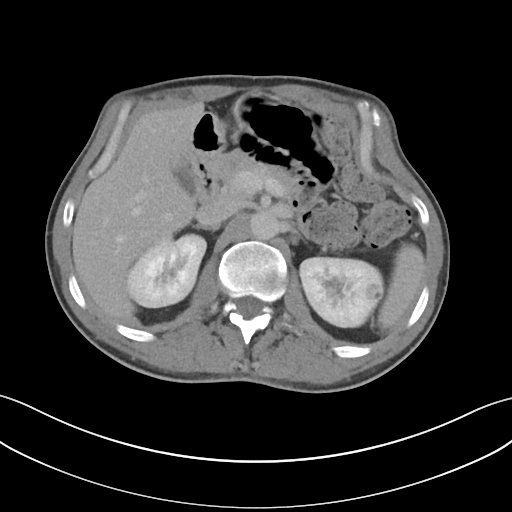Lesion: (364, 286, 383, 301)
